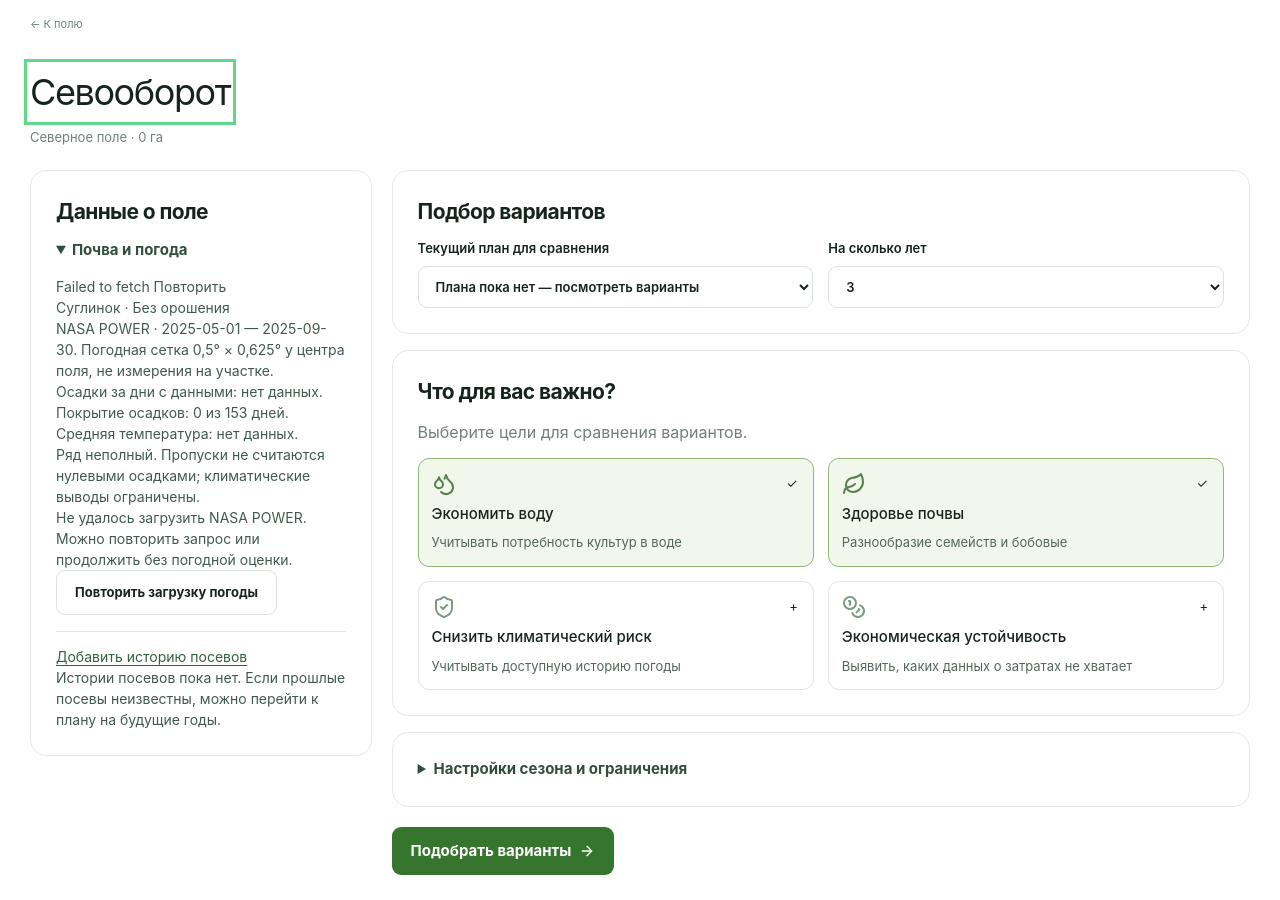
Test case: allows an overview without a plan after provider failure and opens a legacy snapshot
This screenshot has width=1280, height=900.
Later steps or results of the test are not shown.
(page scrolled)
Click the button "Подобрать варианты" at (503, 851), box [392,827,614,875]
(page scrolled)
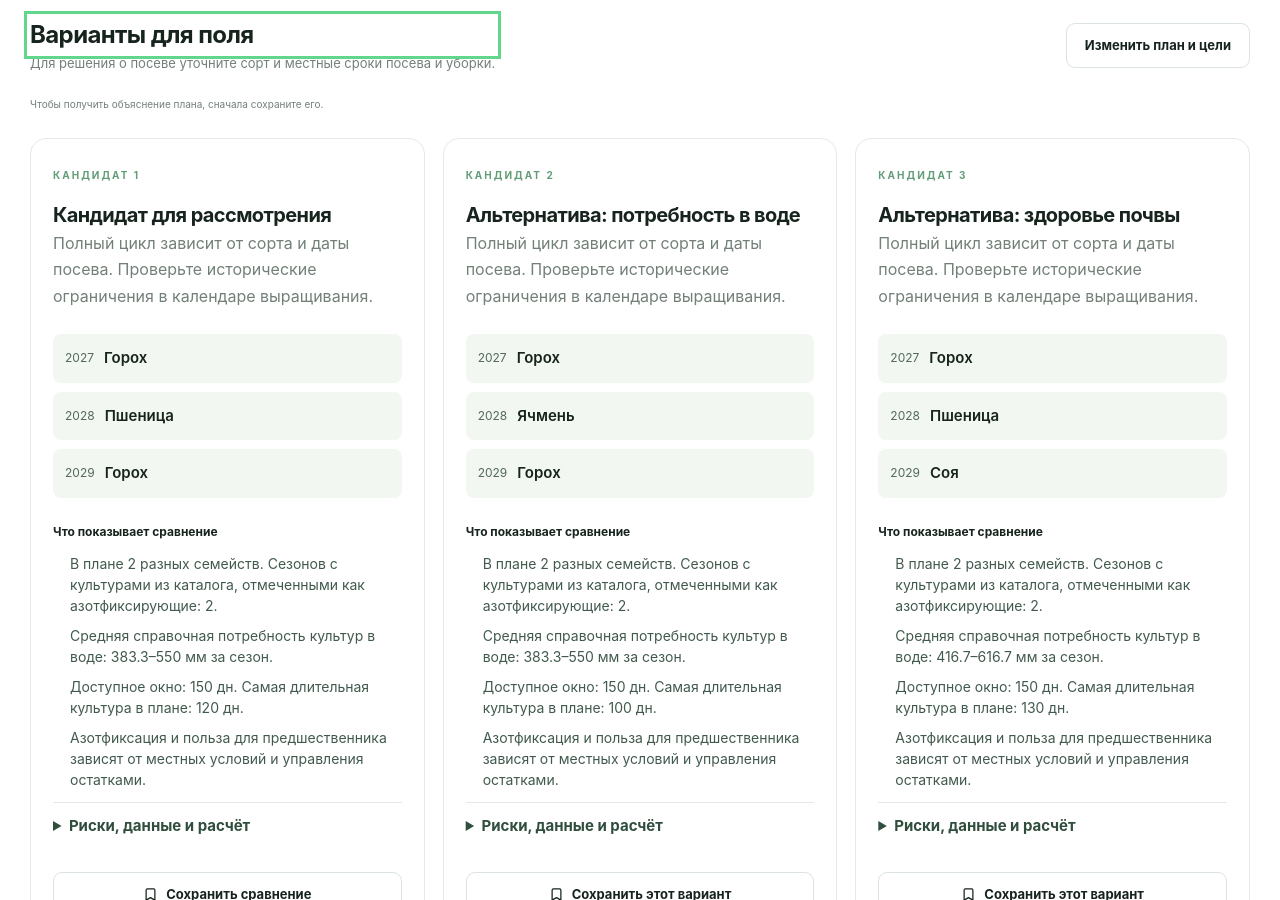
Now the element that starts with "КАНДИДАТ 1" is shown, box [53,169,140,181]
